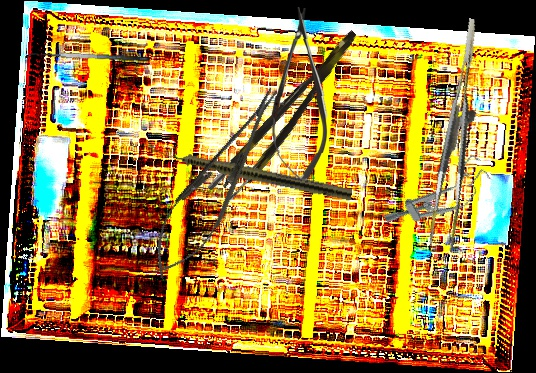Handpiece: (147, 143, 354, 202)
Micro Scissor: (268, 7, 331, 185)
Needle Holder: (135, 74, 298, 291)
Spatula Surgical: (24, 47, 151, 73)
Speculum: (379, 151, 497, 245)
Tissue Forceps: (206, 28, 372, 207), (406, 17, 515, 253)
